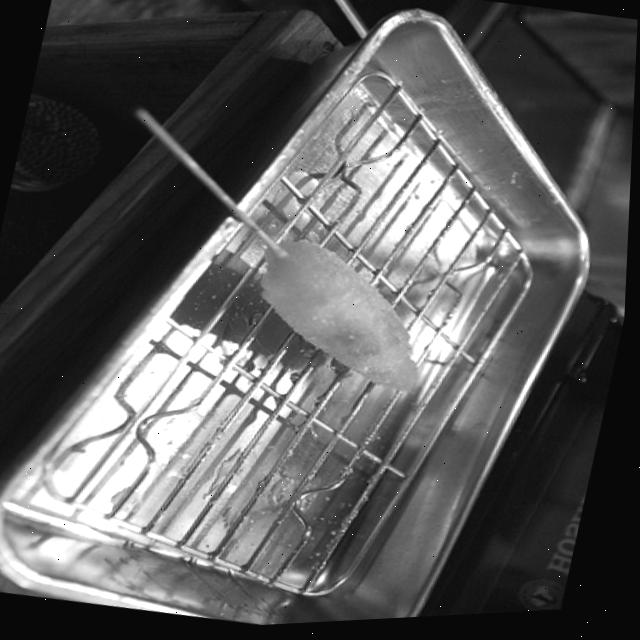汉堡快餐: (23, 101, 627, 638)
